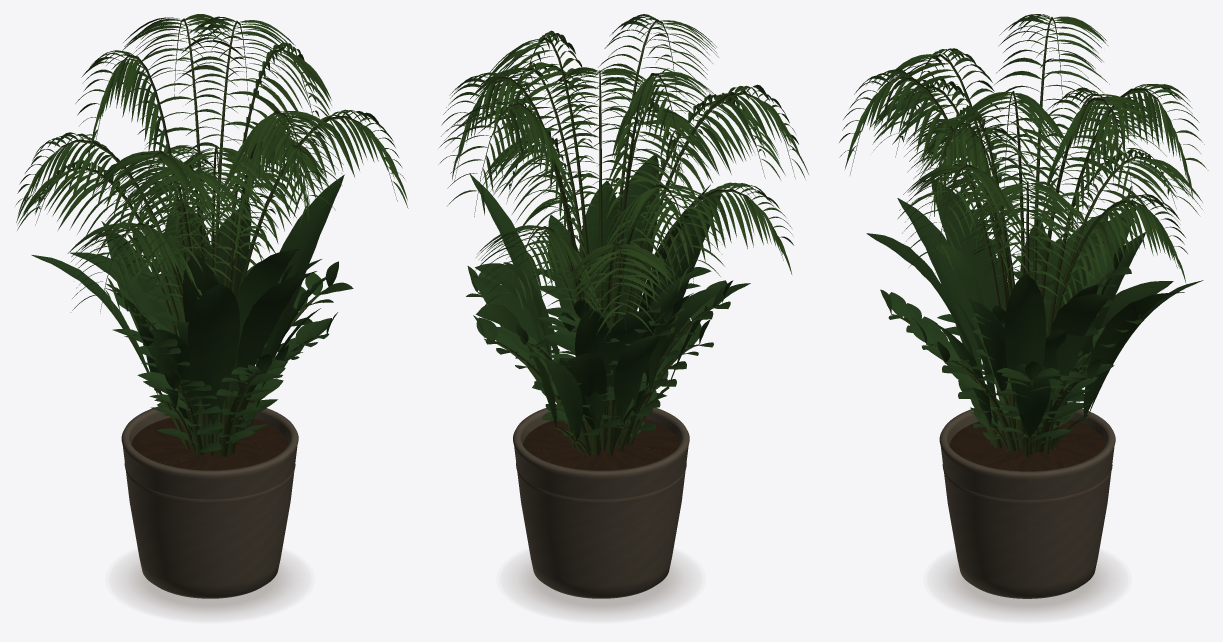
Rendered from companion-plants.glb.
3 views of the same model, side by side, from view 1: azimuth 30°, elevation 25°; view 2: azimuth 150°, elevation 25°; view 3: azimuth 270°, elevation 25° (orthographic).
Visible parts, largest first — view 1: kentia leaves, aspidistra leaves, kentia hollow pot, zamioculcas leaves, kentia stems, kentia humus particles, zamioculcas stems, kentia contact, aspidistra contact, aspidistra hollow pot, aspidistra stems; view 2: kentia leaves, aspidistra leaves, kentia hollow pot, zamioculcas leaves, kentia stems, kentia humus particles, zamioculcas stems, kentia contact, aspidistra stems, aspidistra contact, aspidistra hollow pot; view 3: kentia leaves, aspidistra leaves, kentia hollow pot, zamioculcas leaves, kentia stems, kentia humus particles, zamioculcas stems, kentia contact, aspidistra contact, aspidistra hollow pot, aspidistra stems.
Part boxes in pixels (x1,y1,x2,y2): kentia leaves: (15,14,408,316); aspidistra leaves: (31,174,344,433); kentia hollow pot: (121,406,298,598); zamioculcas leaves: (112,229,353,452); kentia stems: (25,18,397,447); kentia humus particles: (131,417,288,470); zamioculcas stems: (126,254,323,457); kentia contact: (139,571,282,609); aspidistra contact: (140,573,279,608); aspidistra hollow pot: (124,463,295,504); aspidistra stems: (154,386,253,455); kentia leaves: (439,14,808,340); aspidistra leaves: (469,155,750,441); kentia hollow pot: (513,407,689,598); zamioculcas leaves: (466,243,733,437); kentia stems: (454,19,795,451); kentia humus particles: (523,419,679,470); zamioculcas stems: (477,273,719,456); kentia contact: (529,571,673,609); aspidistra stems: (551,378,669,456); aspidistra contact: (531,573,670,608); aspidistra hollow pot: (516,463,686,504); kentia leaves: (839,14,1208,304); aspidistra leaves: (866,179,1203,437); kentia hollow pot: (939,408,1115,598); zamioculcas leaves: (880,236,1142,443); kentia stems: (850,17,1190,447); kentia humus particles: (949,417,1105,471); zamioculcas stems: (891,270,1137,455); kentia contact: (956,572,1098,609); aspidistra contact: (958,575,1096,608); aspidistra hollow pot: (942,464,1112,504); aspidistra stems: (985,384,1088,457).
Bounding box in the file's own units: 1.19 × 1.86 × 1.18.
Materials: 6 (5 with a texture image).
